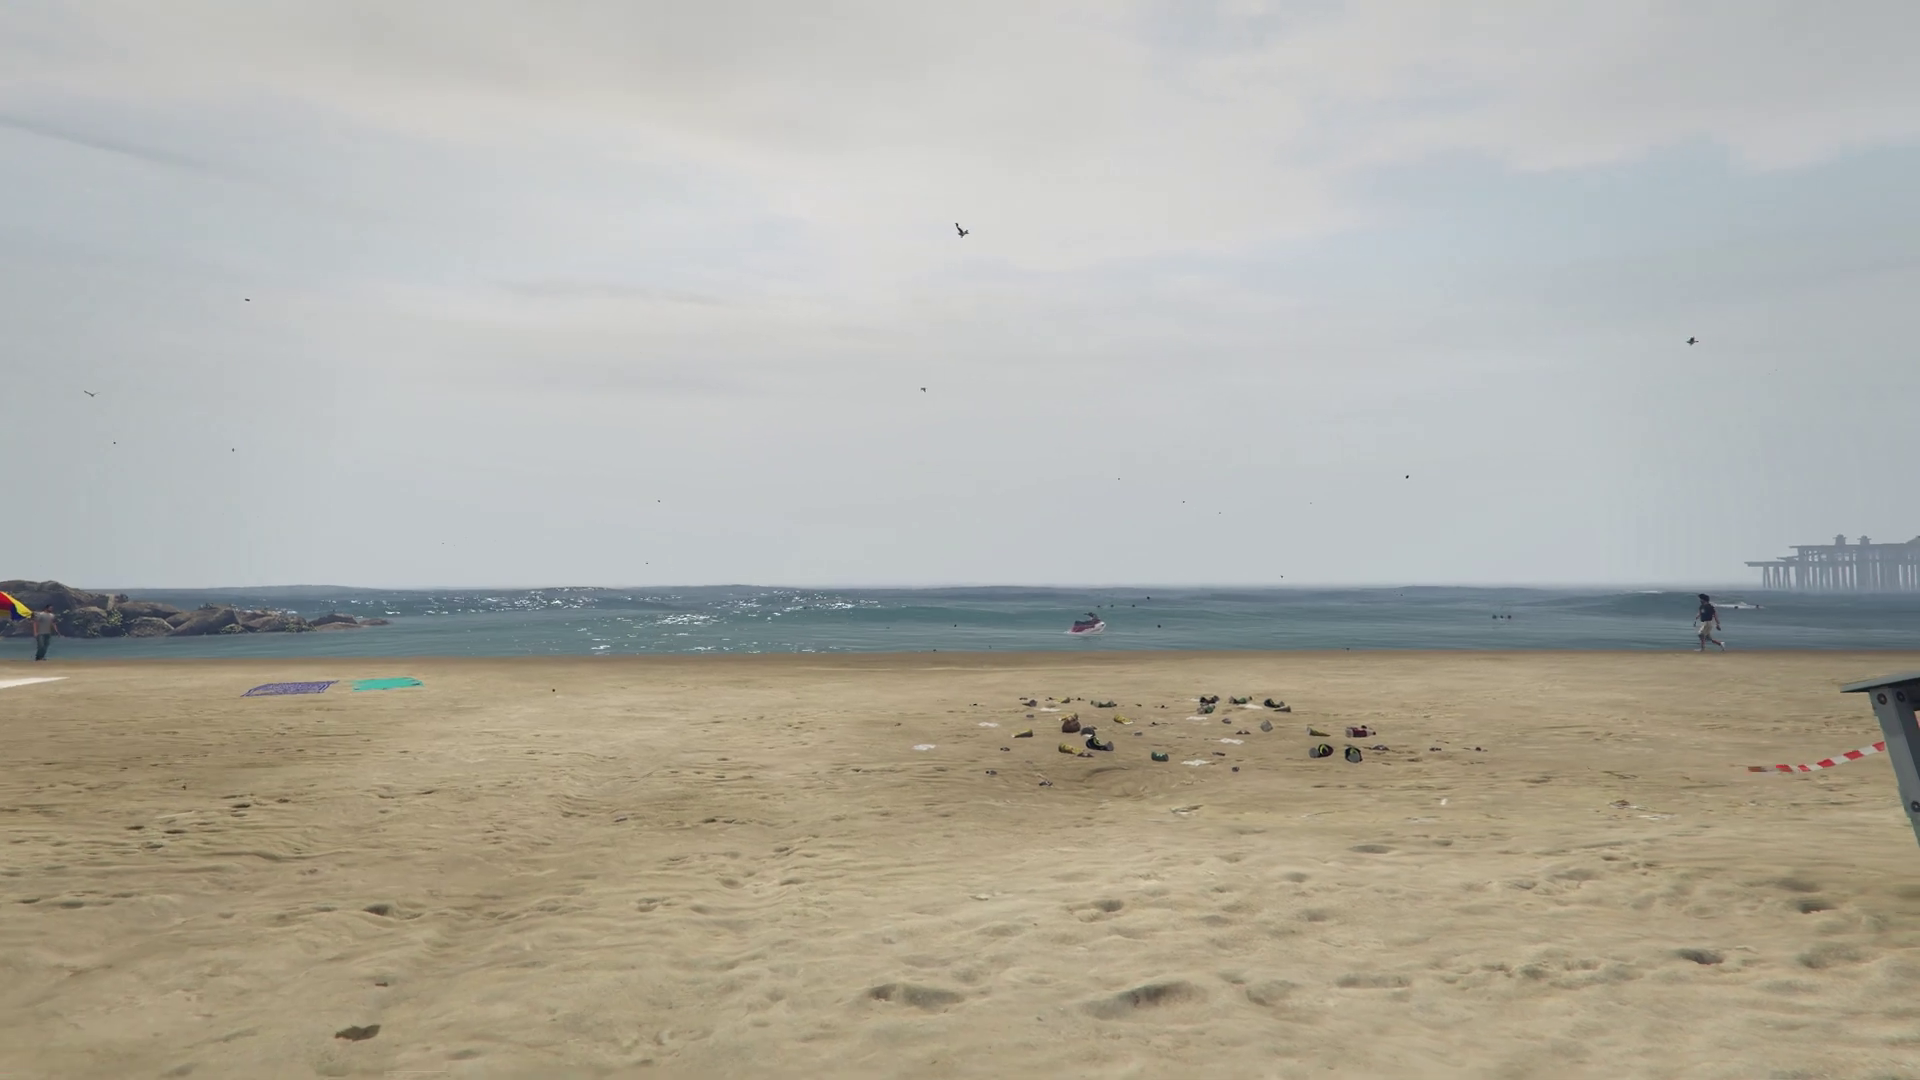person: (1690, 594, 1729, 656), (33, 604, 64, 661)
